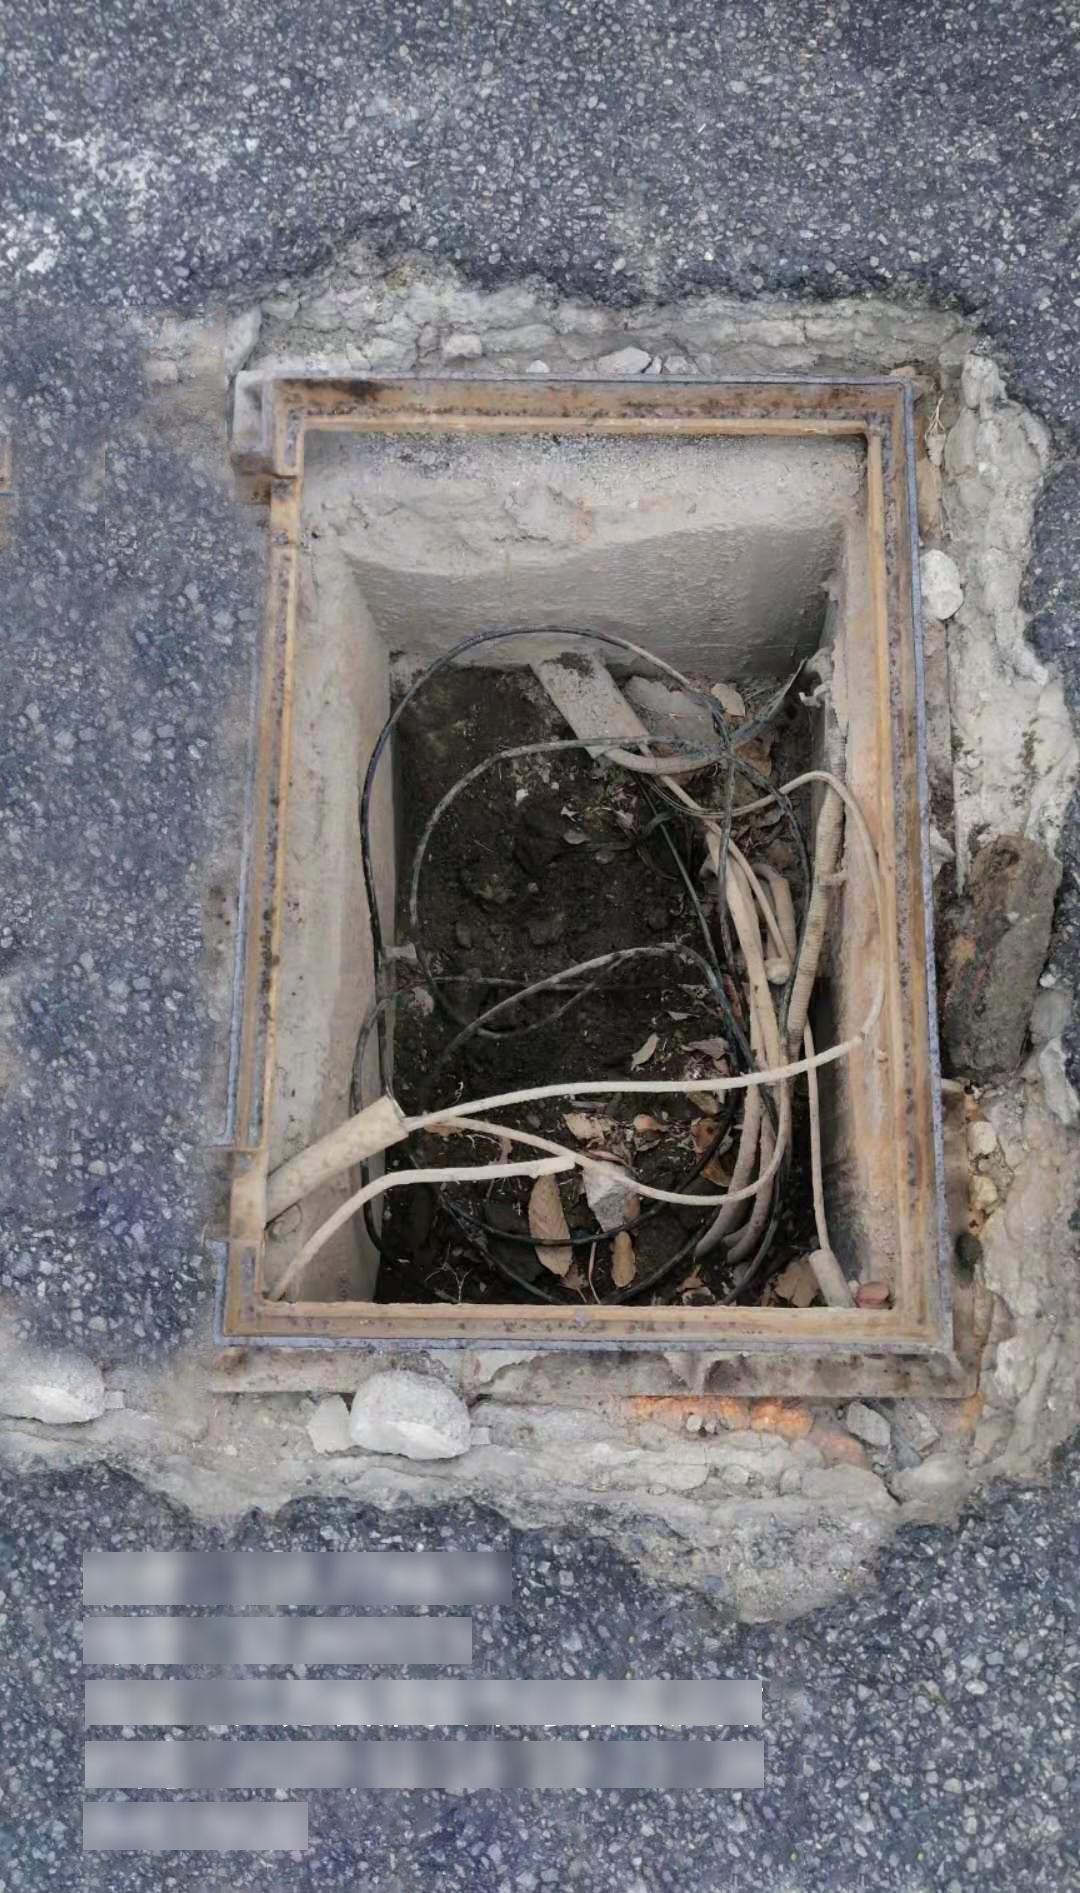well: (213, 352, 971, 1381)
